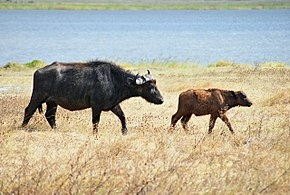buffalo: (92, 99, 236, 177), (211, 112, 290, 160)
